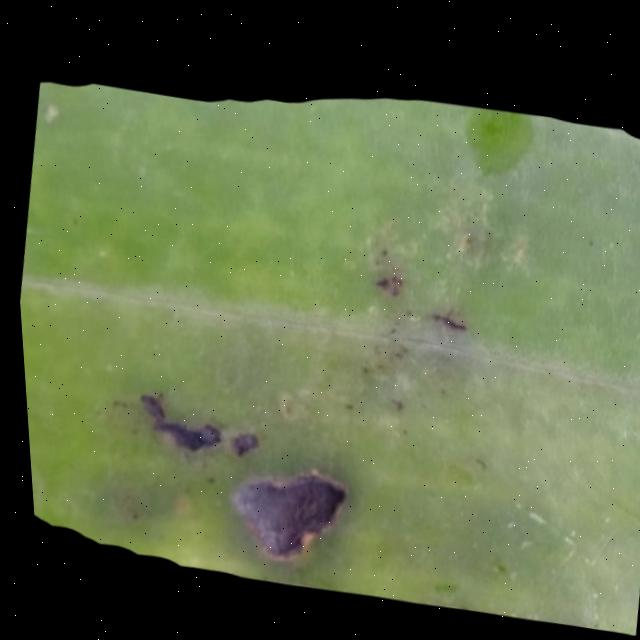mite: (111, 190, 489, 588), (337, 242, 475, 430), (456, 104, 536, 184), (578, 160, 640, 261), (154, 414, 220, 458), (223, 428, 257, 460), (424, 578, 452, 597), (479, 118, 503, 140), (630, 159, 640, 197), (383, 396, 400, 413)
sunburn: (215, 455, 346, 573)
